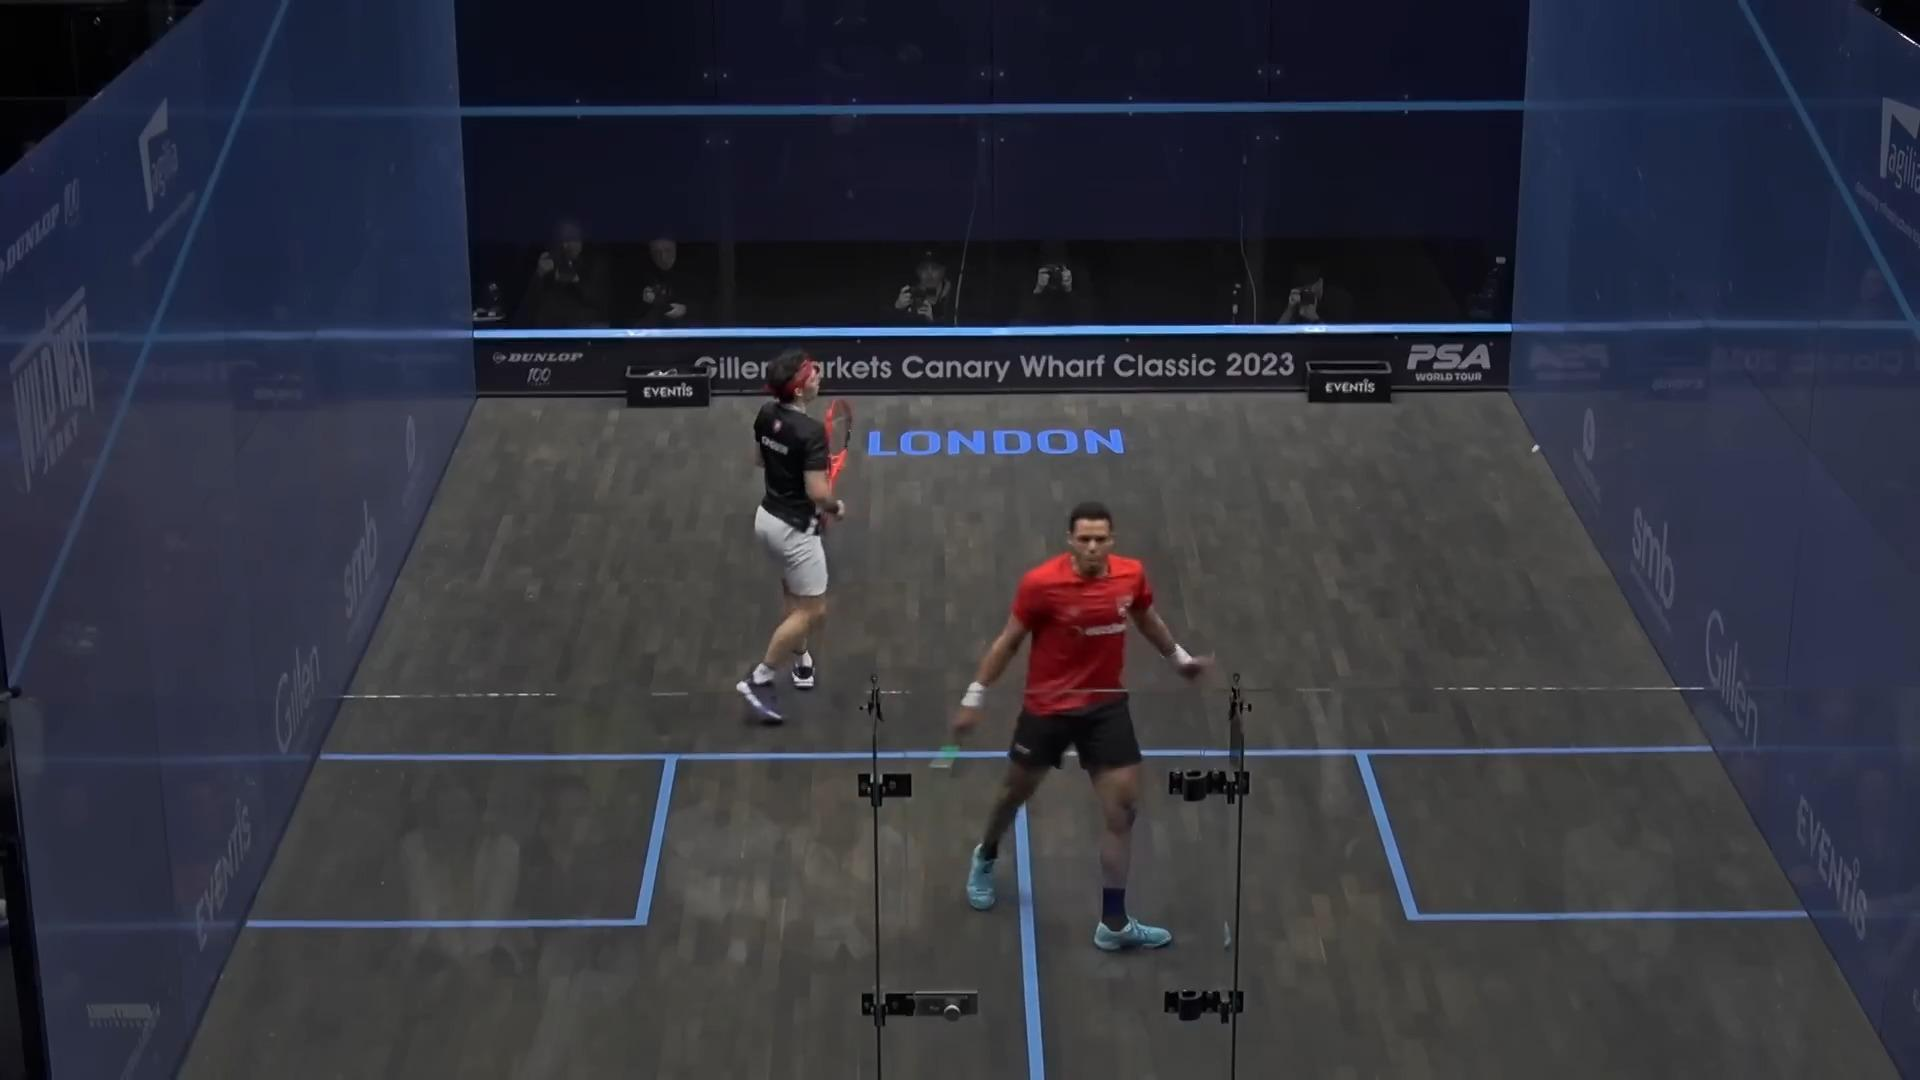Racket: (820, 393, 856, 501)
